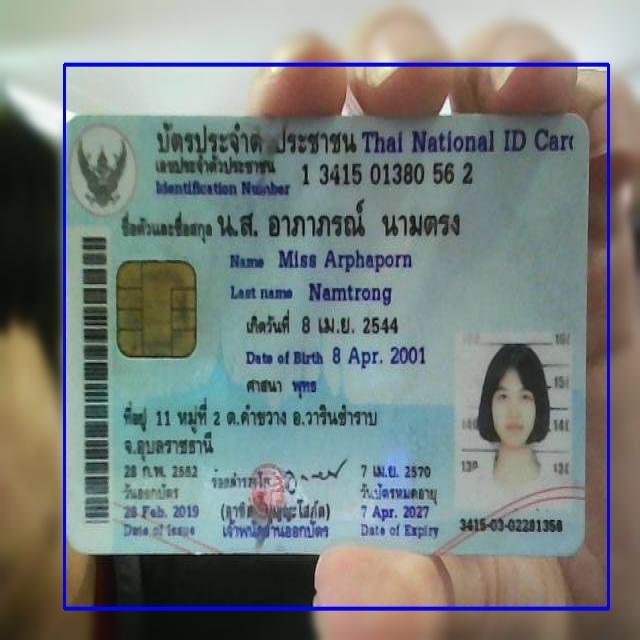Address_th: (120, 396, 381, 462)
Date_of_Birth: (328, 338, 428, 374)
Date_of_Expiry: (356, 501, 438, 523)
Date_of_Issue: (119, 501, 204, 522)
First_Name: (275, 242, 415, 277)
ID_Number: (298, 156, 480, 192)
Image: (455, 334, 574, 511)
Last_Name: (306, 278, 395, 312)
Thai_Name: (215, 196, 463, 243)
